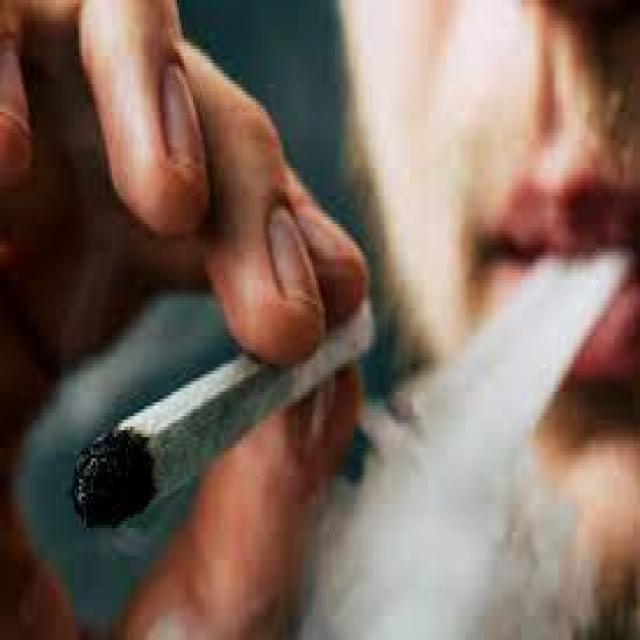cigarette: (70, 290, 379, 535)
